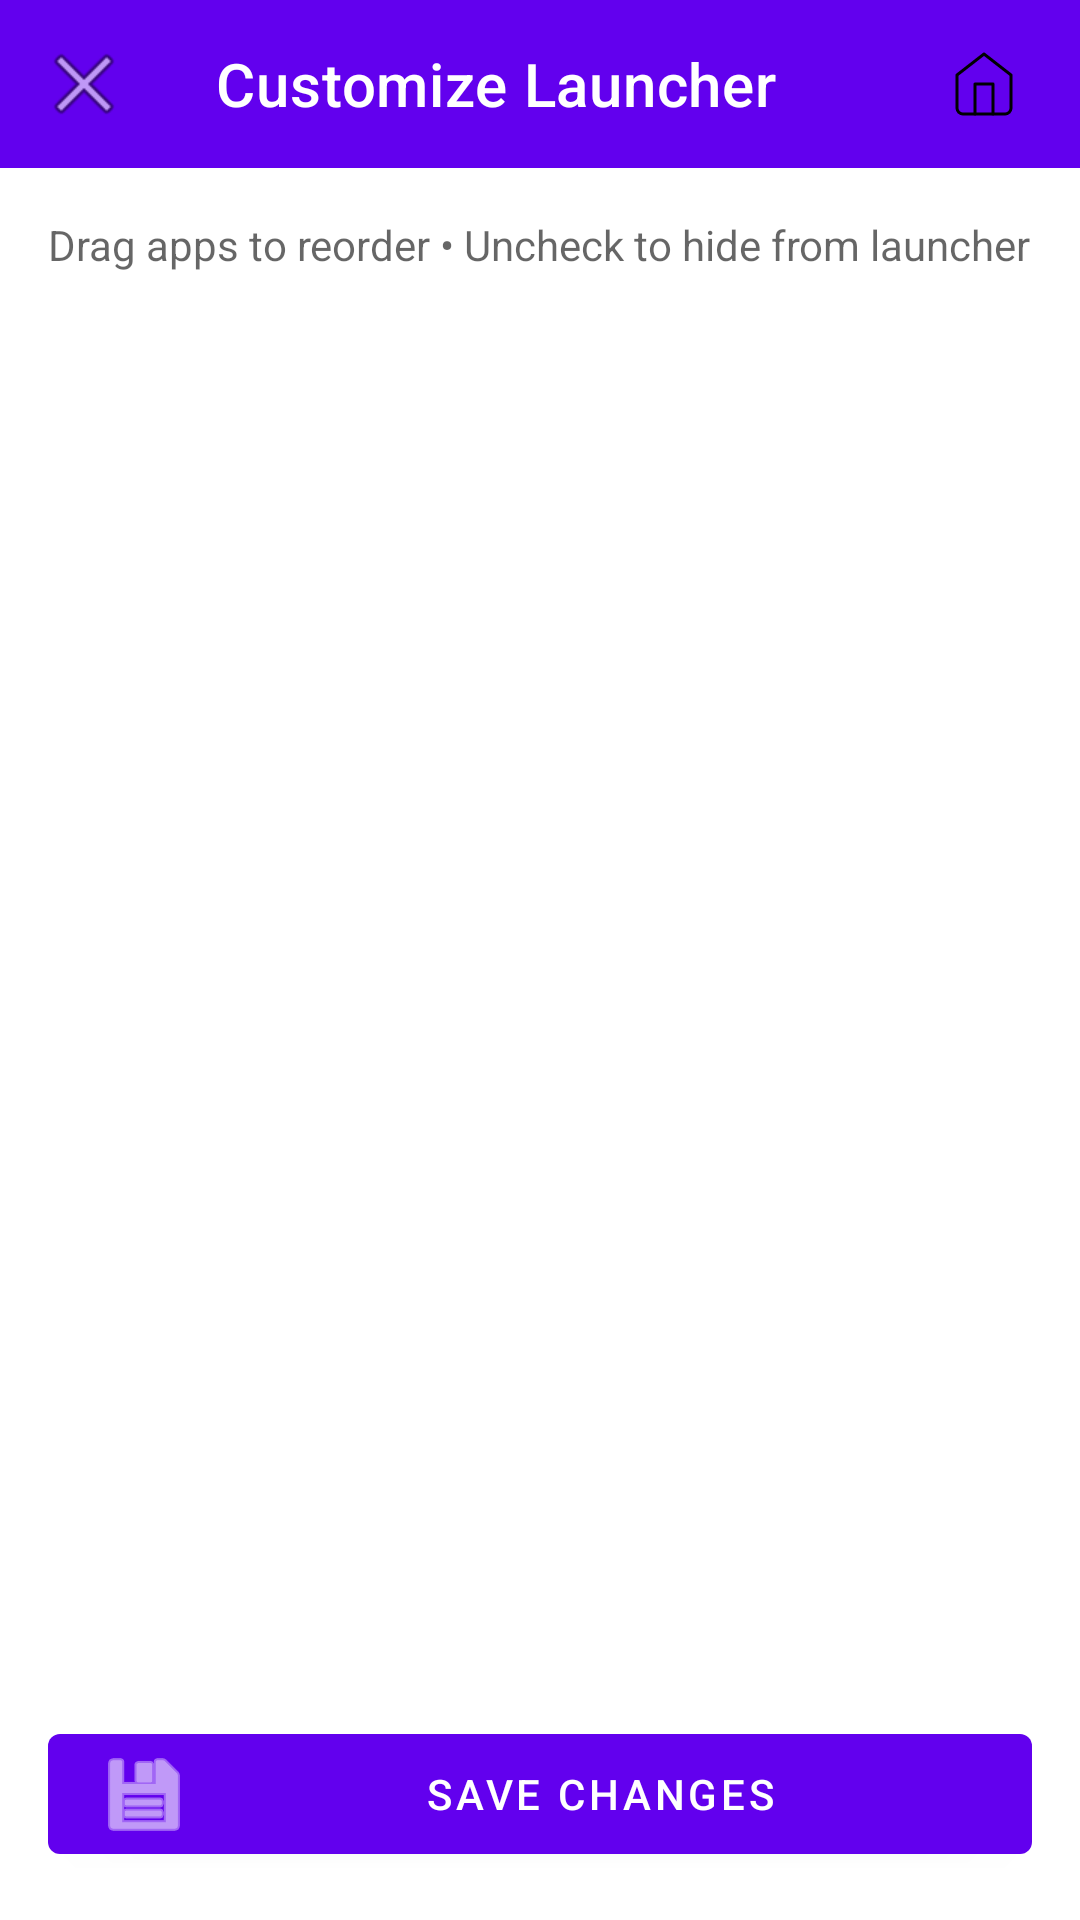

Icon bounding boxes for this 1080*1920 phone screenshot, format [left=x1, top=y1, right=x2, bottom=y2]:
Back to Launcher: [left=955, top=52, right=1013, bottom=116]
